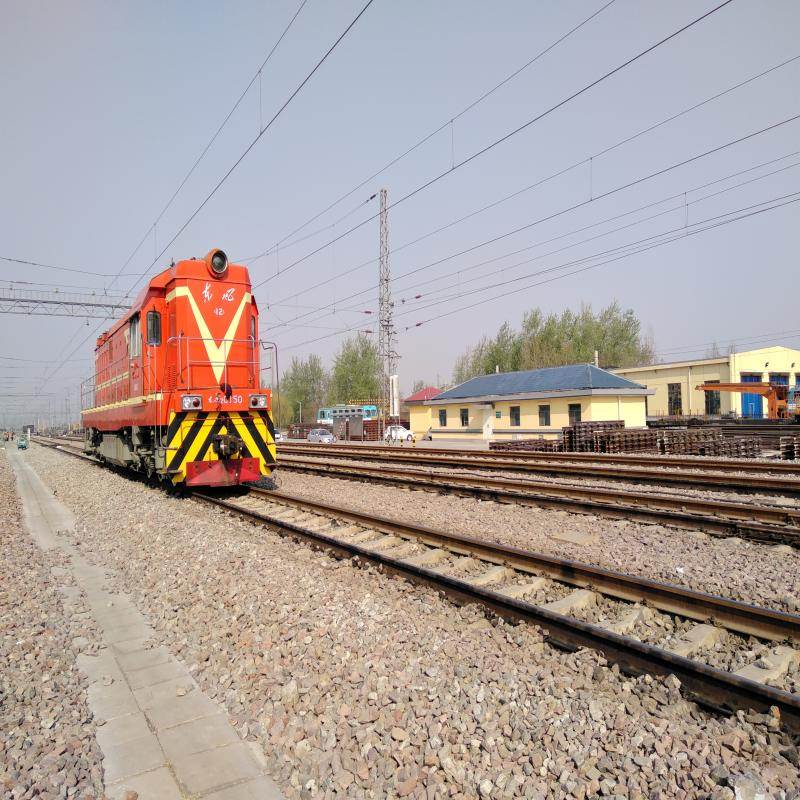train: (83, 253, 275, 486)
